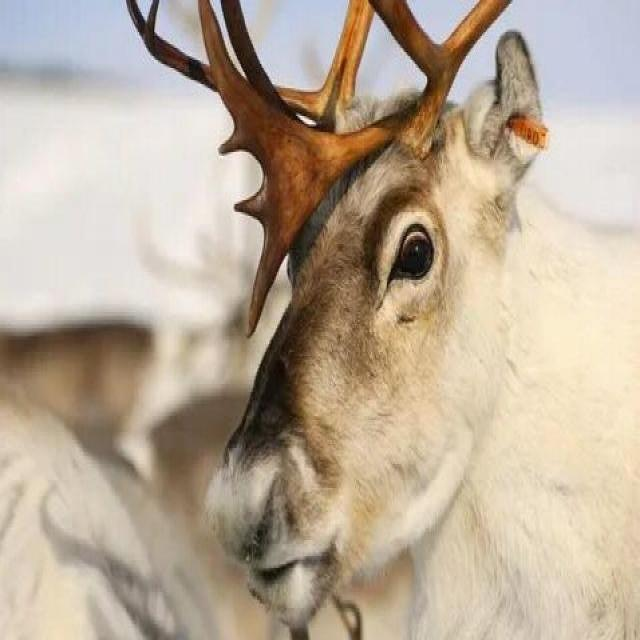deer: (201, 60, 640, 640)
